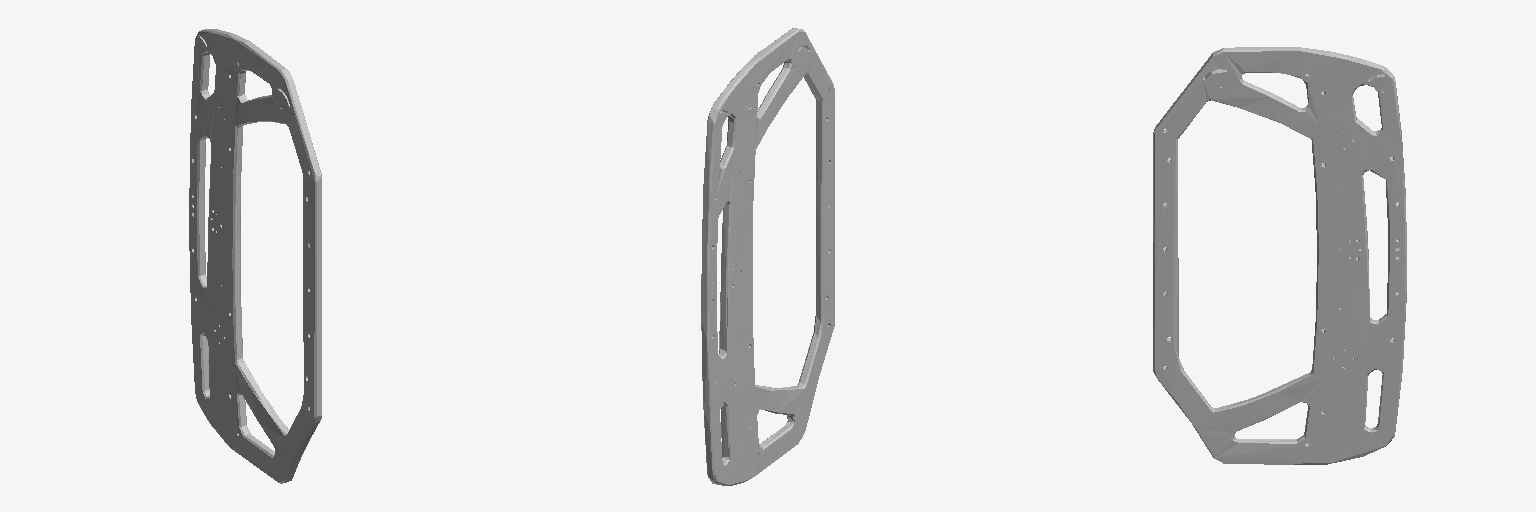
Rendered from right_side.obj.
The picture shows the model from 3 angles: view 1: azimuth 30°, elevation 25°; view 2: azimuth 150°, elevation 25°; view 3: azimuth 270°, elevation 25°; orthographic projection.
Parts seen in each view (by area): view 1: right_side; view 2: right_side; view 3: right_side.
Part boxes in pixels (x1,y1,x2,y2): right_side: (189, 29, 321, 483); right_side: (701, 28, 834, 485); right_side: (1153, 47, 1406, 464).
Bounding box in the file's own units: 0.0097 × 0.4562 × 0.2535.